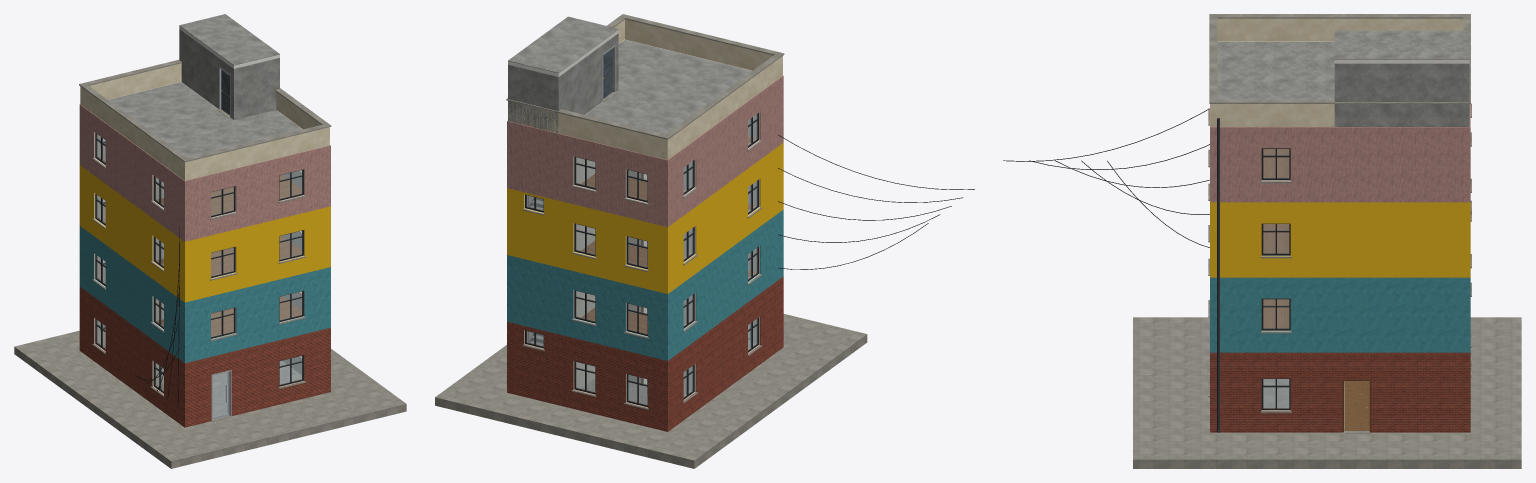
The model's file is b_favela_stack.gltf.
The picture shows the model from 3 angles, left to right: view 1: azimuth 30°, elevation 25°; view 2: azimuth 150°, elevation 25°; view 3: azimuth 270°, elevation 25°; orthographic projection. The views are drawn at different scales.
Visible parts, largest first — view 1: S_favela_stack, D_favela_stack_F1_S1_Door0; view 2: S_favela_stack; view 3: S_favela_stack, D_favela_stack_F1_E1_Door0.
Boxes of the visible parts, <box> form: S_favela_stack: <box>14,14,406,468</box>; D_favela_stack_F1_S1_Door0: <box>212,371,229,419</box>; S_favela_stack: <box>435,14,974,468</box>; S_favela_stack: <box>1003,14,1521,468</box>; D_favela_stack_F1_E1_Door0: <box>1344,381,1369,430</box>.
Size of the model in its own units: 15.51 by 16.3 by 20.01.
24 materials, 14 textured.
